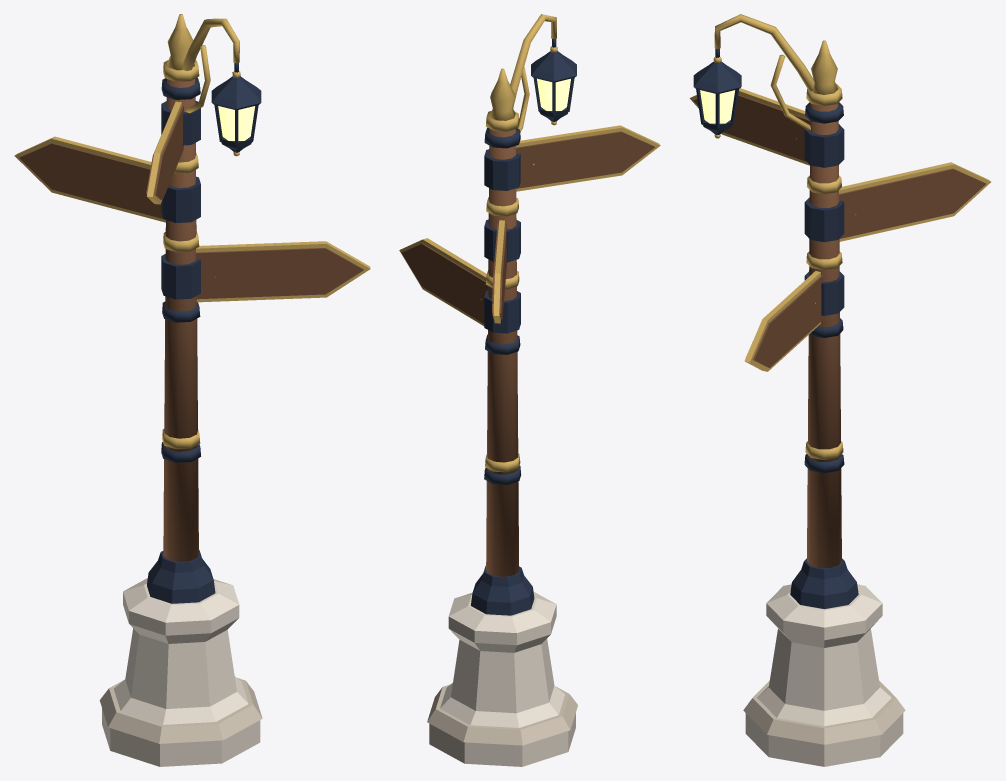
The model's file is prop_city_signpost.glb.
3 renders of one model, left to right at view 1: azimuth 30°, elevation 25°; view 2: azimuth 150°, elevation 25°; view 3: azimuth 270°, elevation 25°, orthographic. The views are drawn at different scales.
Parts seen in each view (by area): view 1: prop_city_signpost; view 2: prop_city_signpost; view 3: prop_city_signpost.
Boxes of the visible parts, <box> form: prop_city_signpost: <box>14,14,370,766</box>; prop_city_signpost: <box>399,14,660,766</box>; prop_city_signpost: <box>689,14,990,766</box>.
Bounding box in the file's own units: 1.21 × 3.42 × 1.3.
